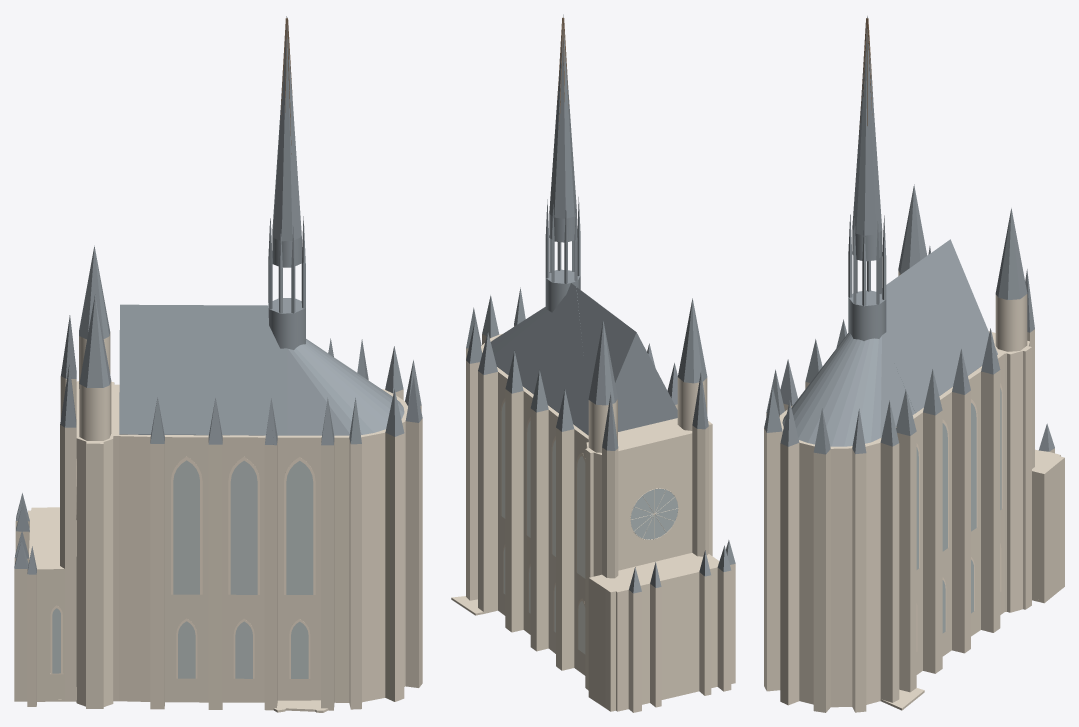
The model's file is detail.glb.
The picture shows the model from 3 angles, left to right: view 1: azimuth 30°, elevation 25°; view 2: azimuth 150°, elevation 25°; view 3: azimuth 270°, elevation 25°; orthographic projection. The views are drawn at different scales.
Parts seen in each view (by area): view 1: stone, roof, window, trim; view 2: stone, roof, window, trim; view 3: stone, roof, window, trim, metal.
Part boxes in pixels (<box>): stone: <box>14,332,422,712</box>; roof: <box>14,16,422,574</box>; window: <box>52,460,313,678</box>; trim: <box>50,456,315,678</box>; stone: <box>451,325,735,712</box>; roof: <box>466,14,735,593</box>; window: <box>501,401,678,654</box>; trim: <box>500,398,678,648</box>; stone: <box>764,271,1064,712</box>; roof: <box>764,16,1054,454</box>; window: <box>916,388,1001,633</box>; trim: <box>916,383,1002,651</box>; metal: <box>858,18,873,146</box>.
Bounding box in the file's own units: 40.37 × 75 × 31.64.
